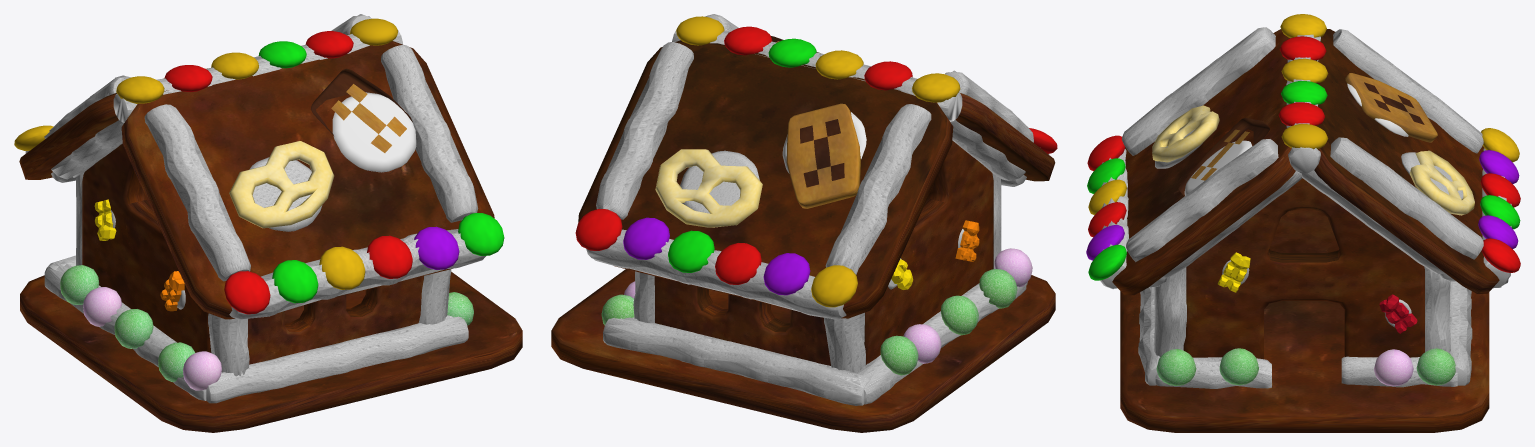
Rendered from Knusperhaus.fbx.
3 views of the same model, side by side, from view 1: azimuth 30°, elevation 25°; view 2: azimuth 150°, elevation 25°; view 3: azimuth 270°, elevation 25° (orthographic). The views are drawn at different scales.
Parts seen in each view (by area): view 1: Dach-links, Boden, Rueckseite, Kleber-links-unten, Wand-links, Kleber-Dach-links-hinten, Kleber-Dach-links-vorne, Brezel1, Lebkuchen-Kleber-links, Kleber-links-oben, Dach-rechts, Lebkuchenblock-links (+29 smaller); view 2: Dach-rechts, Boden, Rueckseite, Kleber-rechts-unten, Wand-rechts, Kleber-Dach-rechts-vorne.001, Lebkuchenblock-rechts, Kleber-Dach-rechts-hinten.001, Brezel2, Kleber-rechts-oben.001, Dach-links, Kleber-hinten-unten (+26 smaller); view 3: Boden, Vorderseite, Dach-links, Dach-rechts, Kleber-Dach-links-hinten, Kleber-Dach-rechts-vorne.001, Kleber-Dach-links-vorne, Kleber-Dach-rechts-hinten.001, Lebkuchenblock-rechts, Kleber-links-vorne, Rueckseite, Brezel2 (+38 smaller).
Boxes of the visible parts, x1=… form: Dach-links: x1=121, y1=41, x2=494, y2=319; Boden: x1=20, y1=272, x2=522, y2=432; Rueckseite: x1=82, y1=144, x2=211, y2=352; Kleber-links-unten: x1=206, y1=316, x2=468, y2=403; Wand-links: x1=247, y1=276, x2=423, y2=364; Kleber-Dach-links-hinten: x1=144, y1=104, x2=250, y2=281; Kleber-Dach-links-vorne: x1=381, y1=45, x2=478, y2=222; Brezel1: x1=229, y1=140, x2=334, y2=228; Lebkuchen-Kleber-links: x1=332, y1=92, x2=416, y2=172; Kleber-links-oben: x1=229, y1=229, x2=485, y2=319; Dach-rechts: x1=19, y1=34, x2=349, y2=179; Lebkuchenblock-links: x1=311, y1=68, x2=412, y2=173; Dach-rechts: x1=578, y1=40, x2=953, y2=318; Boden: x1=551, y1=269, x2=1055, y2=432; Rueckseite: x1=864, y1=140, x2=993, y2=364; Kleber-rechts-unten: x1=603, y1=317, x2=870, y2=405; Wand-rechts: x1=654, y1=276, x2=830, y2=365; Kleber-Dach-rechts-vorne.001: x1=596, y1=42, x2=693, y2=219; Lebkuchenblock-rechts: x1=786, y1=103, x2=860, y2=208; Kleber-Dach-rechts-hinten.001: x1=825, y1=104, x2=931, y2=274; Brezel2: x1=655, y1=149, x2=762, y2=227; Kleber-rechts-oben.001: x1=586, y1=229, x2=846, y2=319; Dach-links: x1=955, y1=93, x2=1055, y2=181; Kleber-hinten-unten: x1=851, y1=283, x2=1026, y2=404; Boden: x1=1120, y1=291, x2=1489, y2=432; Vorderseite: x1=1183, y1=178, x2=1424, y2=359; Dach-links: x1=1112, y1=29, x2=1295, y2=295; Dach-rechts: x1=1314, y1=29, x2=1499, y2=293; Kleber-Dach-links-hinten: x1=1122, y1=27, x2=1275, y2=155; Kleber-Dach-rechts-vorne.001: x1=1330, y1=137, x2=1483, y2=259; Kleber-Dach-links-vorne: x1=1126, y1=139, x2=1278, y2=261; Kleber-Dach-rechts-hinten.001: x1=1333, y1=29, x2=1483, y2=153; Lebkuchenblock-rechts: x1=1345, y1=73, x2=1437, y2=142; Kleber-links-vorne: x1=1154, y1=267, x2=1186, y2=356; Rueckseite: x1=1269, y1=208, x2=1339, y2=252; Brezel2: x1=1409, y1=150, x2=1474, y2=215.
Size of the model in its own units: 617 by 475 by 684.
